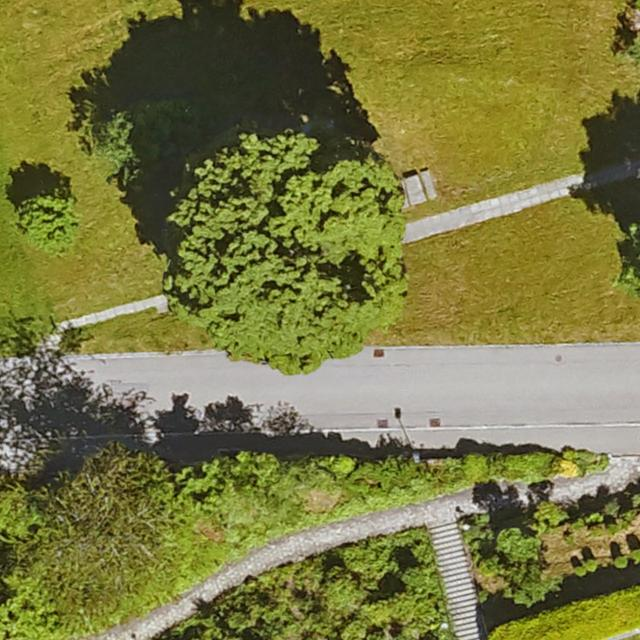tree: (154, 140, 404, 373), (35, 468, 170, 616), (19, 198, 72, 250), (620, 227, 640, 301)
